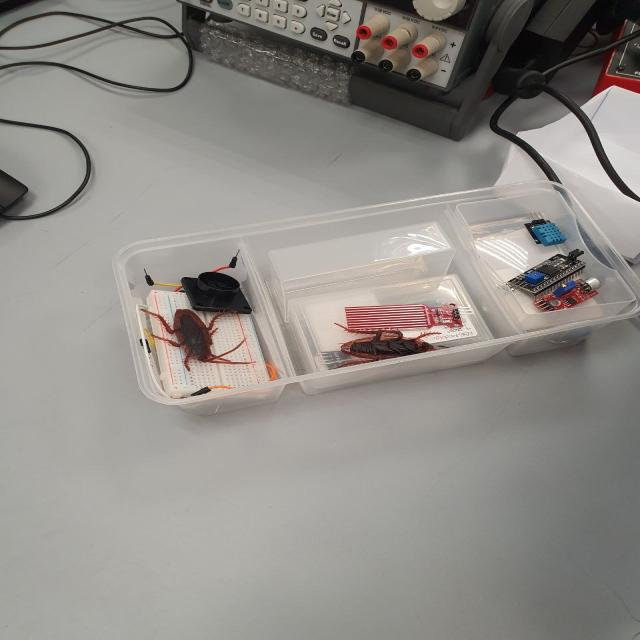Cockroach: (137, 296, 254, 384), (328, 311, 442, 371)
